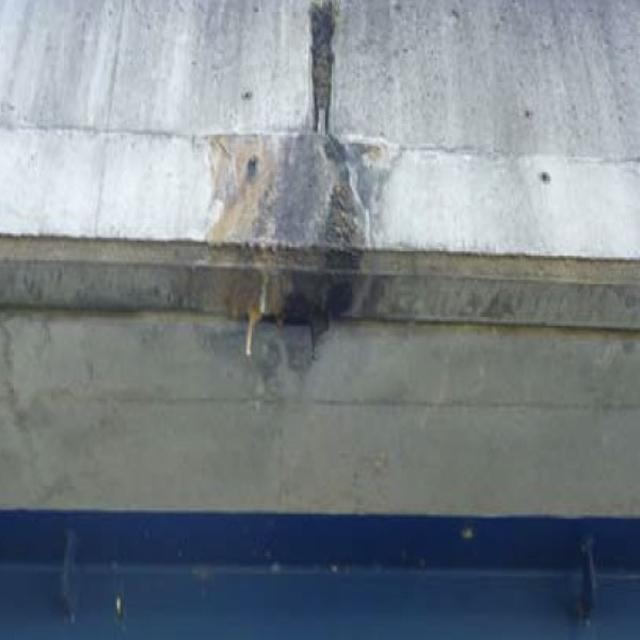leakage: (214, 121, 384, 370)
